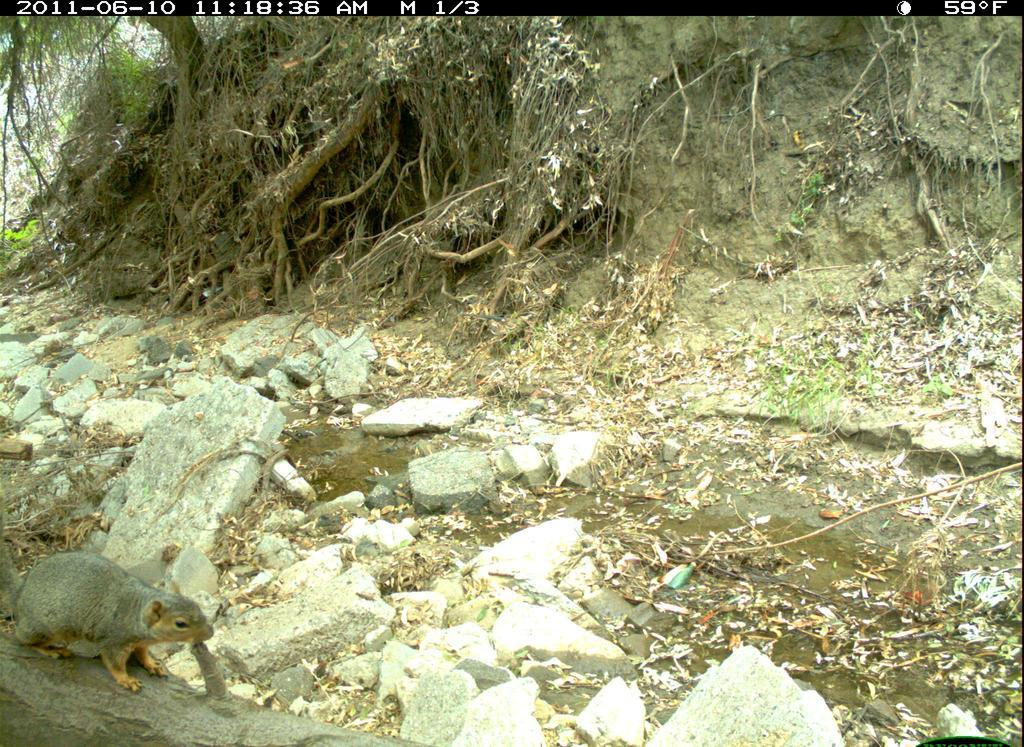squirrel: (3, 525, 221, 696)
